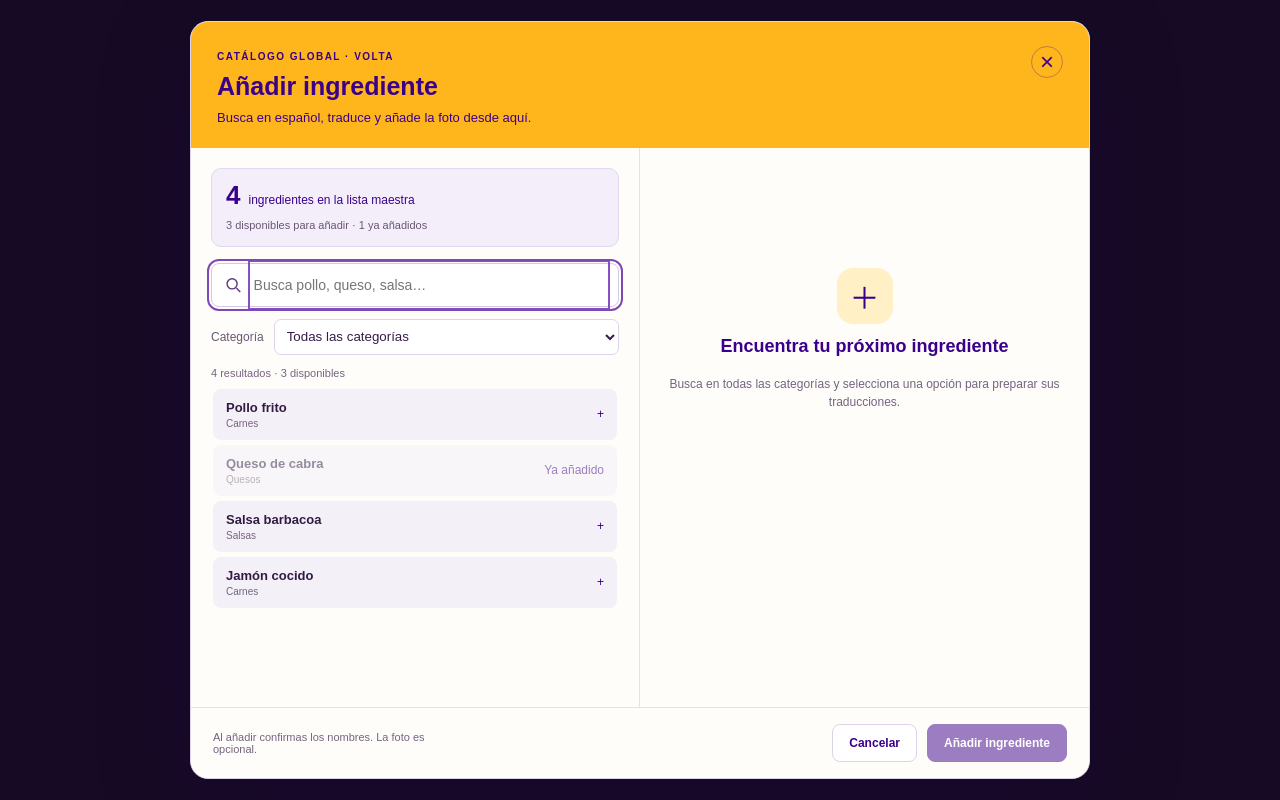
Scenario: searches across categories, accents and aliases and marks existing ingredients
Check: the button "Queso de cabra Quesos Ya añadido" is disabled, box top-left (213, 445), bottom-right (617, 496)
In the field named "Buscar en la lista maestra": (429, 285) top-left (252, 264), bottom-right (606, 306), type "jamon"
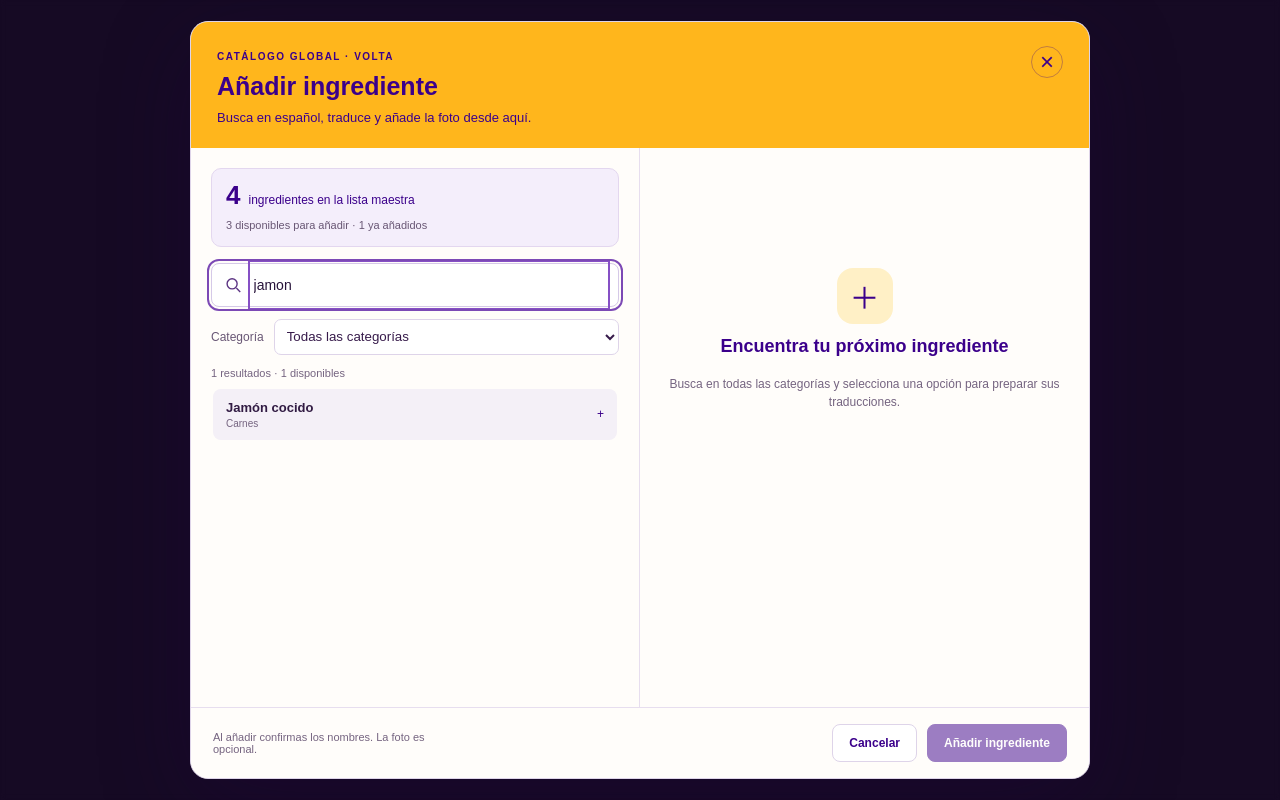
Check: the button "Jamón cocido Carnes +" is shown, box top-left (213, 389), bottom-right (617, 440)
Replace the text in the field named "Buscar en la lista maestra" with "bbq": (429, 285) top-left (252, 264), bottom-right (606, 306)
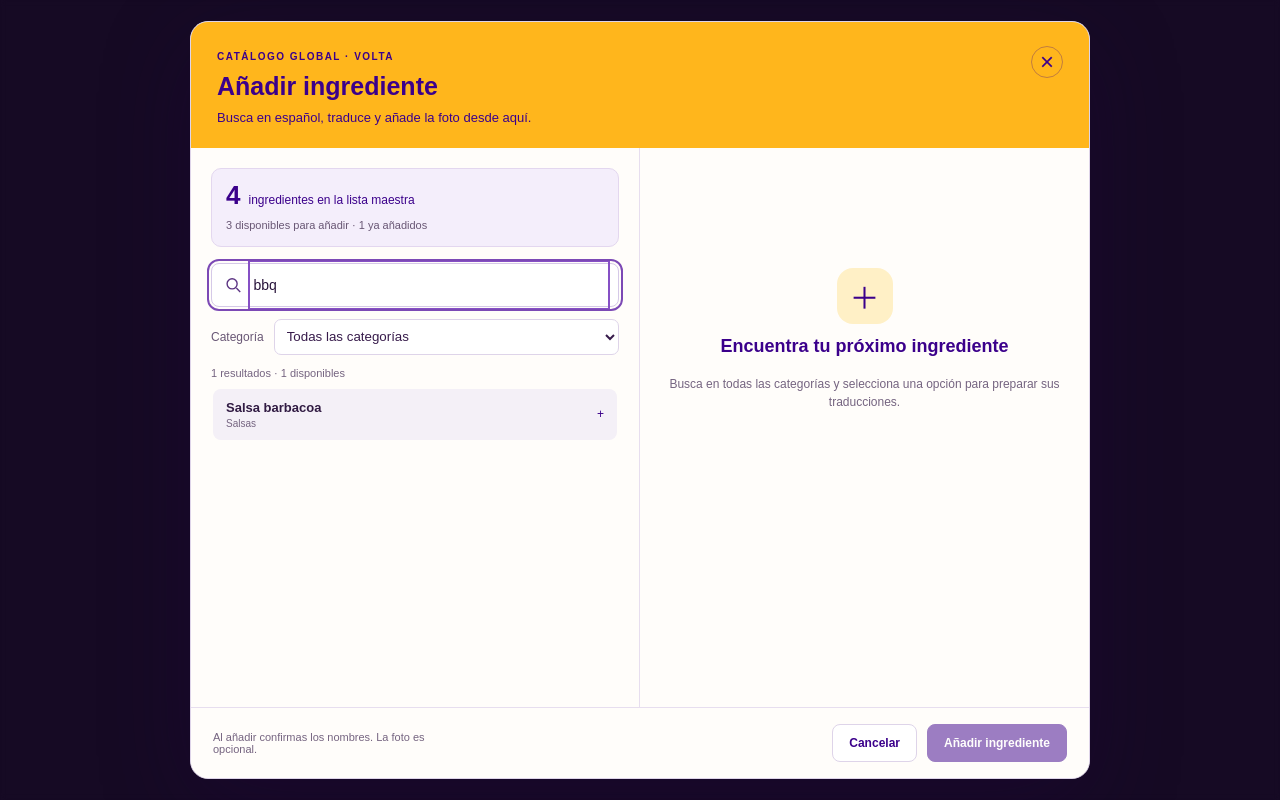
Check: the button "Pollo frito" is not shown
Check: the button "Salsa barbacoa Salsas +" is shown, box top-left (213, 389), bottom-right (617, 440)
